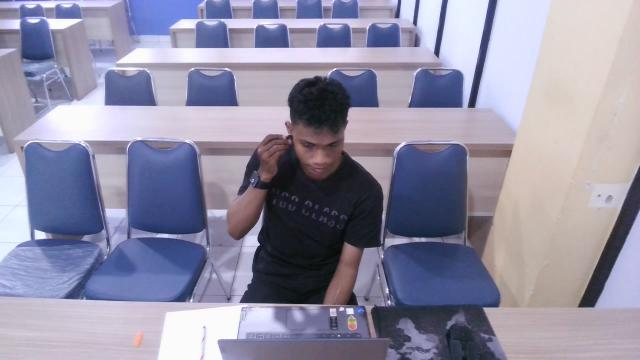Earpiece: (264, 118, 299, 158)
Head_Down_Extreme: (216, 69, 401, 317)
